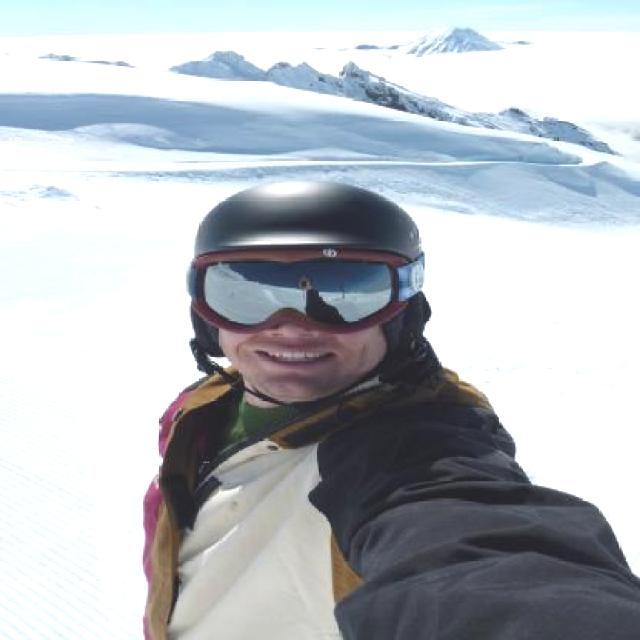face_nomask: (208, 252, 400, 382)
glasses: (177, 248, 420, 337)
head_nohelmet: (187, 174, 428, 284)
person: (142, 174, 640, 640)
